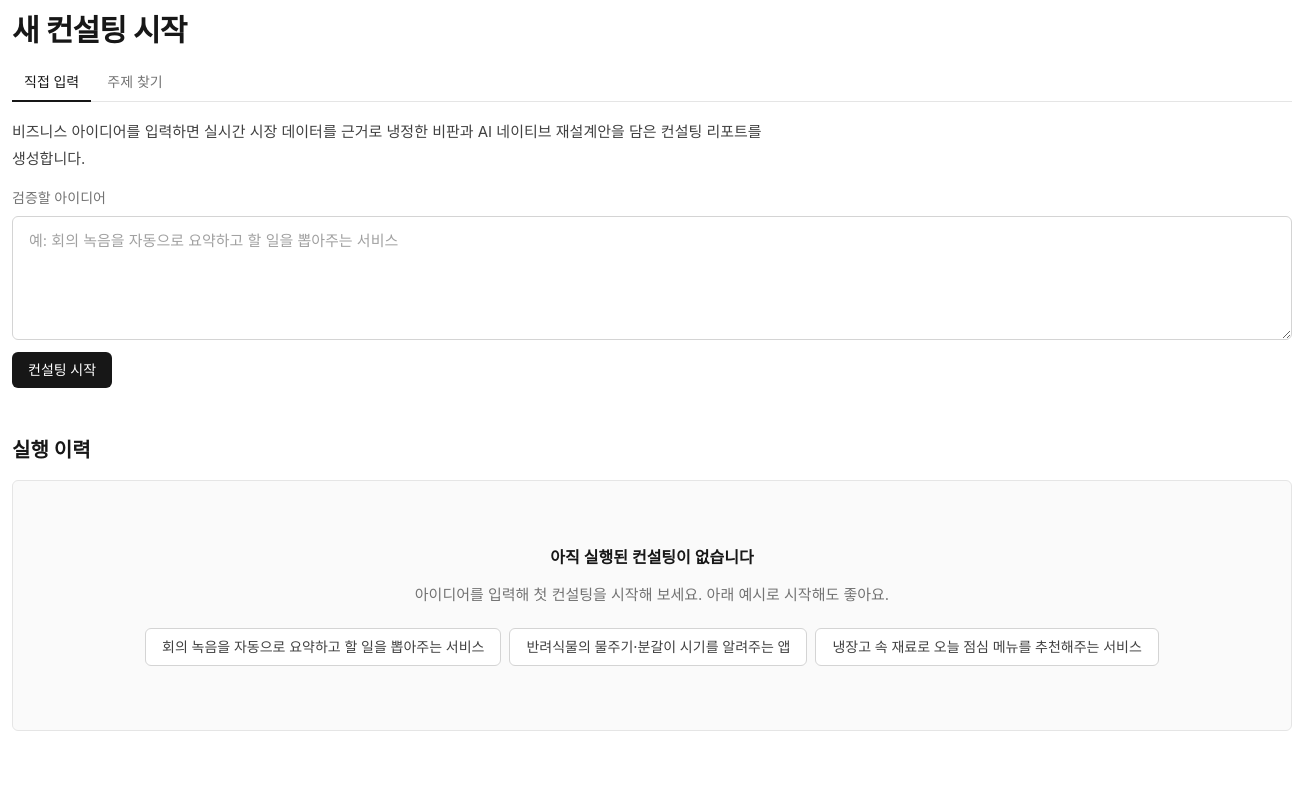
Scenario: HomeClient (통합) › 빈 상태의 예시 버튼을 누르면 입력 폼 textarea가 채워진다
Expected: the heading "아직 실행된 컨설팅이 없습니다" is shown, [550,544,754,568]
Click the button "반려식물의 물주기·분갈이 시기를 알려주는 앱".
click(658, 646)  # box [510,628,807,666]
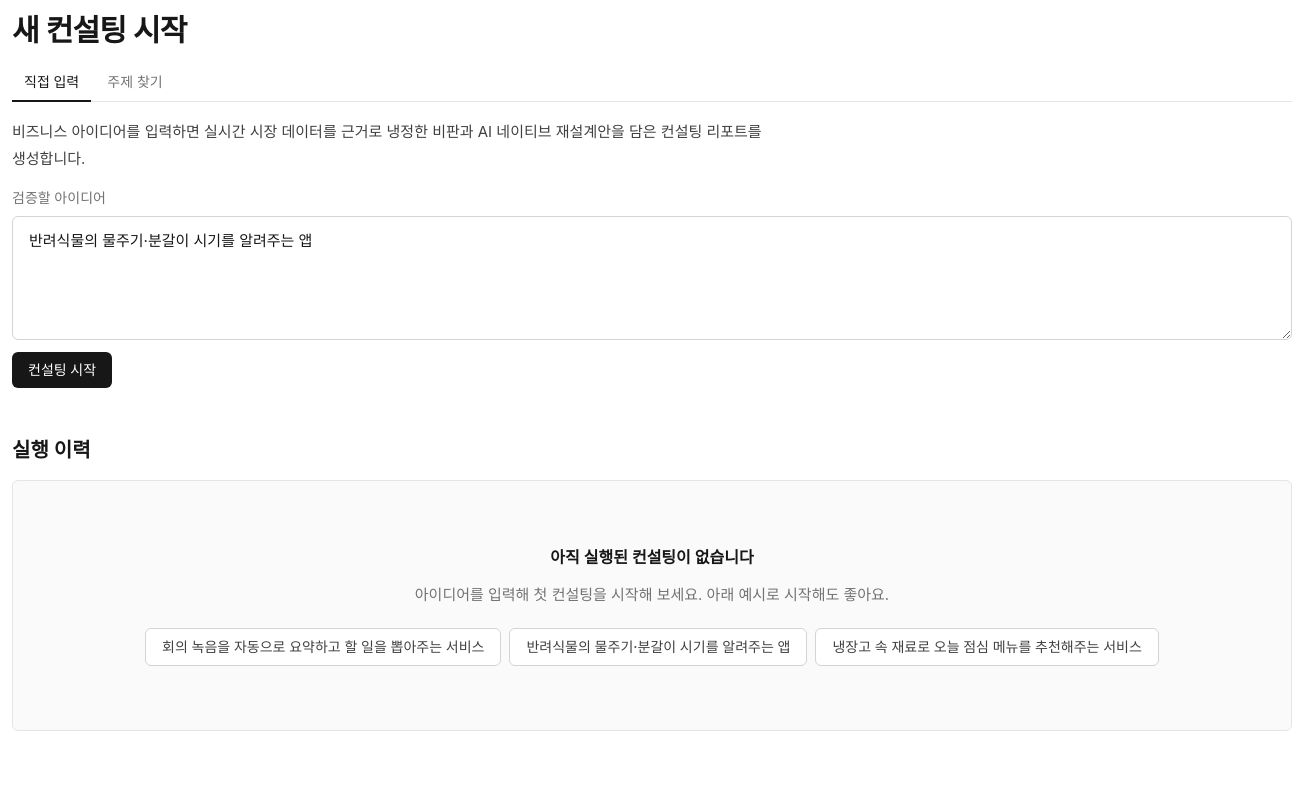
Expected: the text box labelled "검증할 아이디어" holds "반려식물의 물주기·분갈이 시기를 알려주는 앱", [12,216,1292,340]
